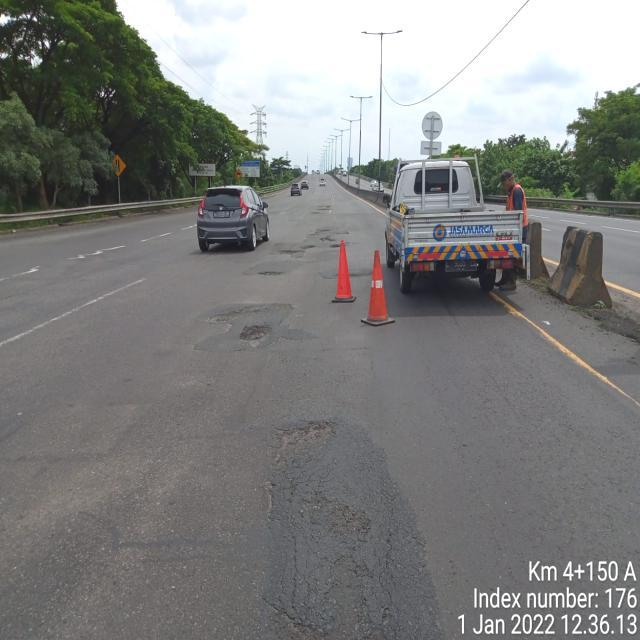Buraco: (201, 303, 272, 325), (236, 324, 274, 342), (278, 249, 306, 258), (257, 270, 284, 277), (318, 234, 337, 243), (298, 244, 318, 251), (328, 243, 341, 249)
